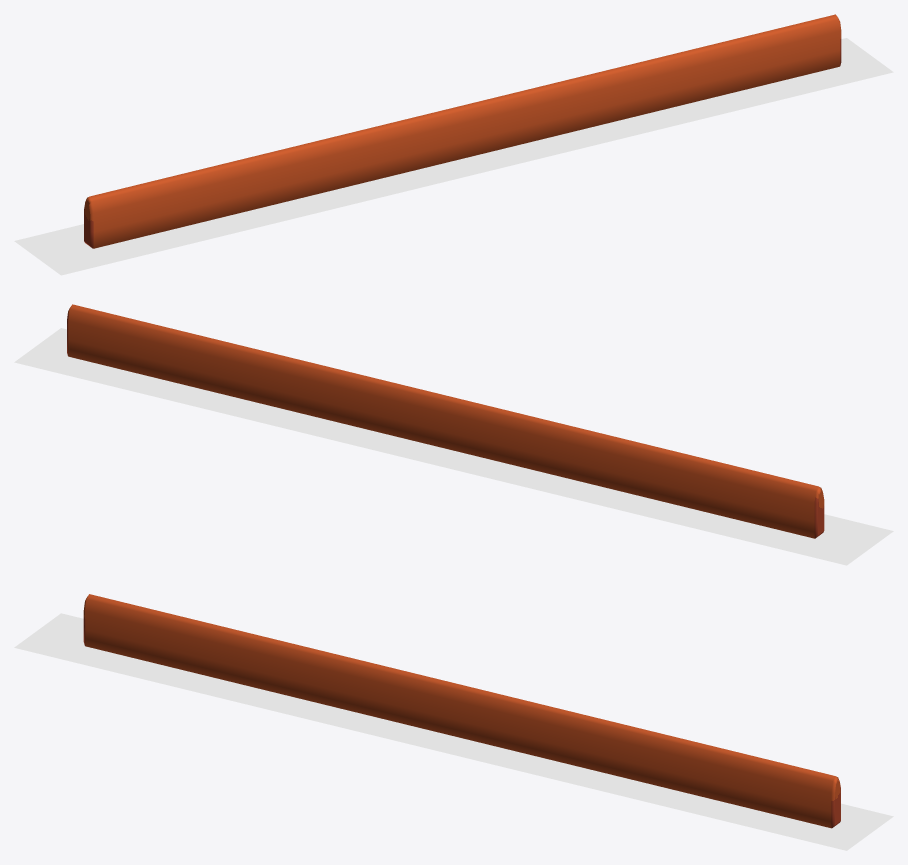
Rendered from NormalContent.fbx.
The picture shows the model from 3 angles, top to bottom: view 1: azimuth 30°, elevation 25°; view 2: azimuth 150°, elevation 25°; view 3: azimuth 330°, elevation 25°; orthographic projection.
Parts seen in each view (by area): view 1: BasicObstacle, Shadow; view 2: BasicObstacle, Shadow; view 3: BasicObstacle, Shadow.
Part boxes in pixels (x1,y1,x2,y2): BasicObstacle: (84, 14, 841, 248); Shadow: (14, 38, 893, 275); BasicObstacle: (67, 304, 824, 538); Shadow: (14, 328, 893, 565); BasicObstacle: (83, 594, 840, 828); Shadow: (14, 613, 893, 850).
Size of the model in its own units: 6.94 by 0.3992 by 0.6805.
Materials: 2 (2 with a texture image).
